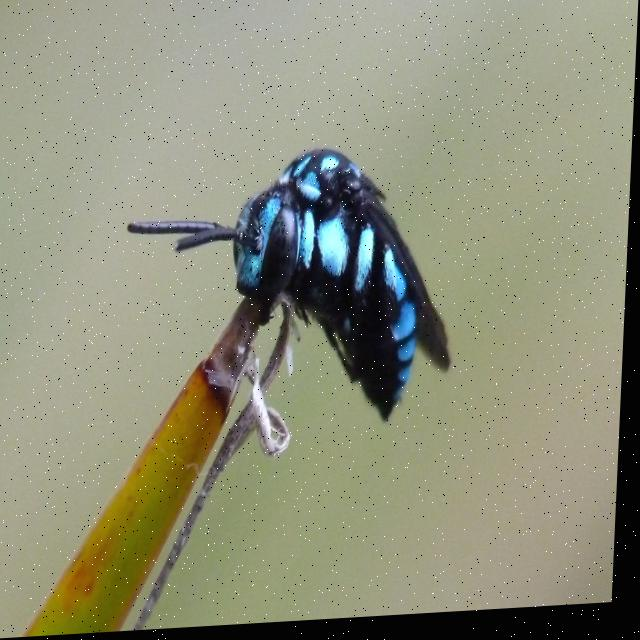Thyreus: (117, 134, 478, 460)
